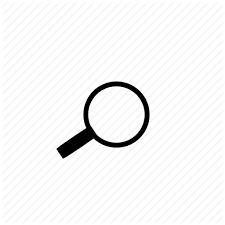searchIcon: (54, 79, 150, 160)
